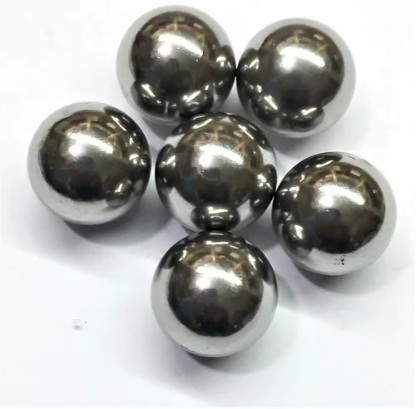ironball: (149, 229, 277, 357), (271, 150, 396, 276), (26, 100, 150, 225), (153, 110, 277, 232), (235, 16, 356, 138), (115, 4, 236, 125)
